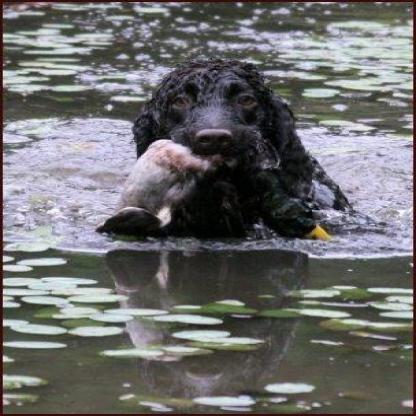Irish_water_spaniel: (93, 58, 350, 241)
